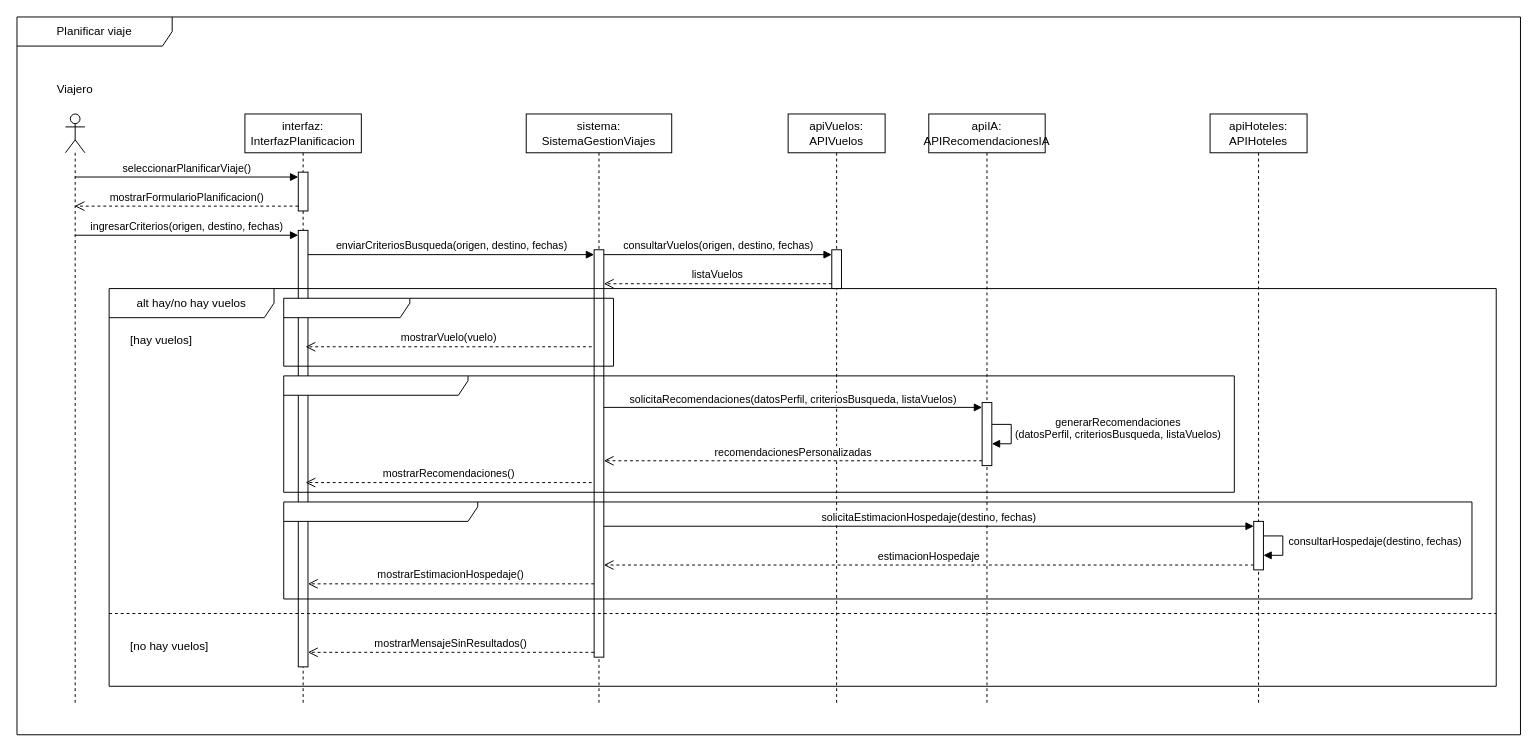
This 1537x752 diagram has some shape labels left out. Here are the shapes that lost their labels. From the top down, the centre of each, then its label:
At (448,331): "loop [por cada vuelo]".
At (758,433): "opt [solicita recomendaciones]".
At (877,550): "opt [solicita estimacion hospedaje]".
